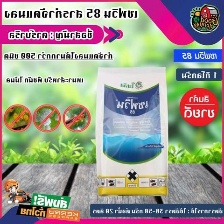insecticide: (93, 62, 175, 200)
